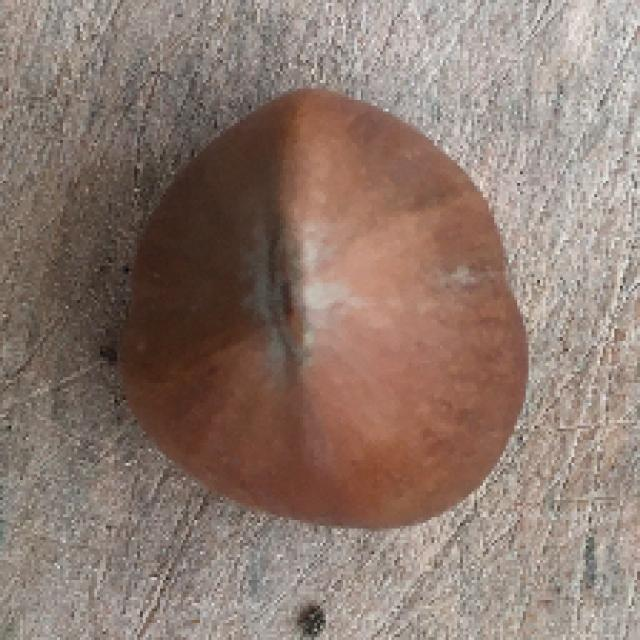qualityHazelnut: (128, 88, 518, 529)
